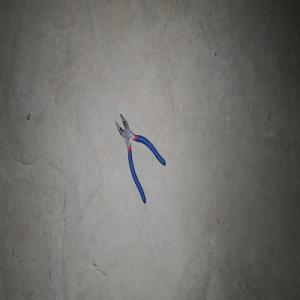Pliers: (115, 113, 166, 204)
